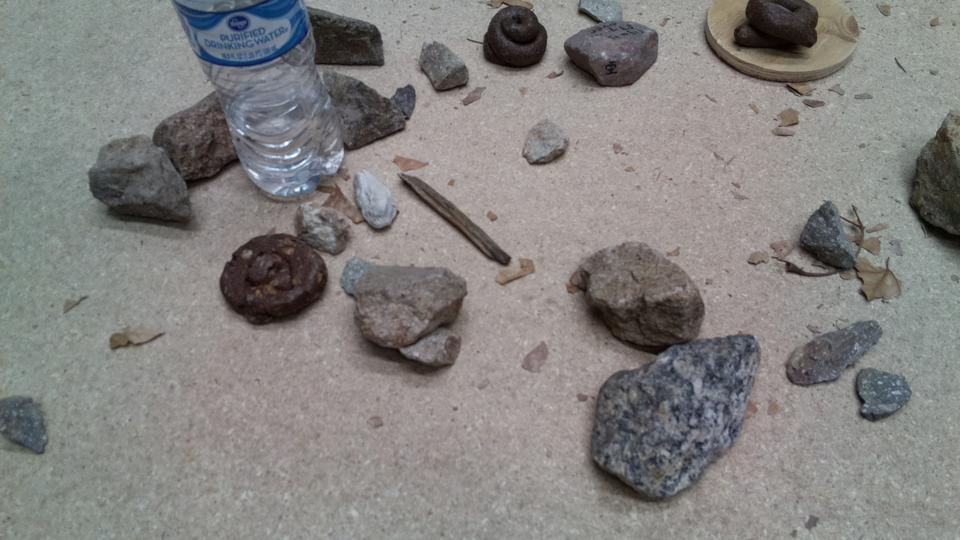poop: (216, 231, 330, 329), (729, 1, 820, 51), (482, 3, 549, 70)
